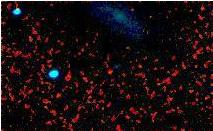star: (92, 55, 122, 85)
